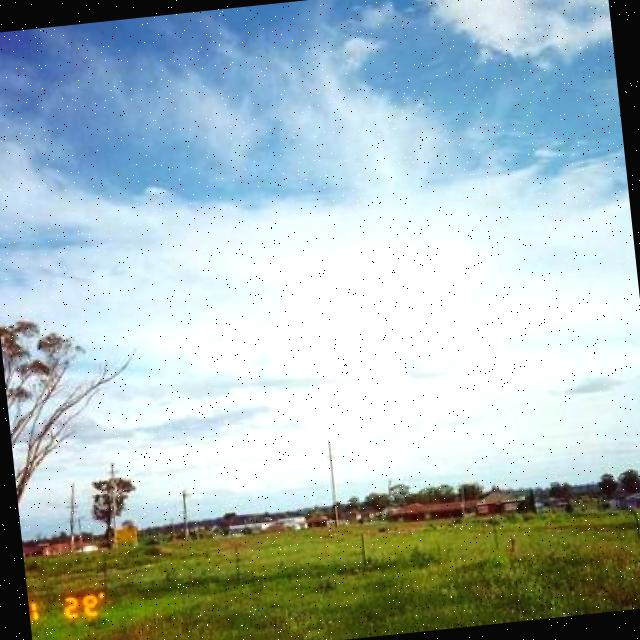Cs: (1, 1, 635, 321)
